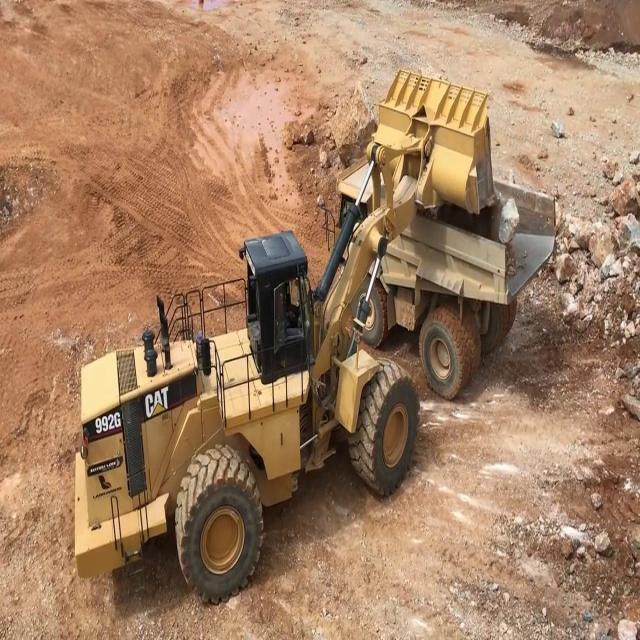buldozerpayloadergrader: (66, 63, 494, 603)
dump_truck: (338, 156, 556, 386)
